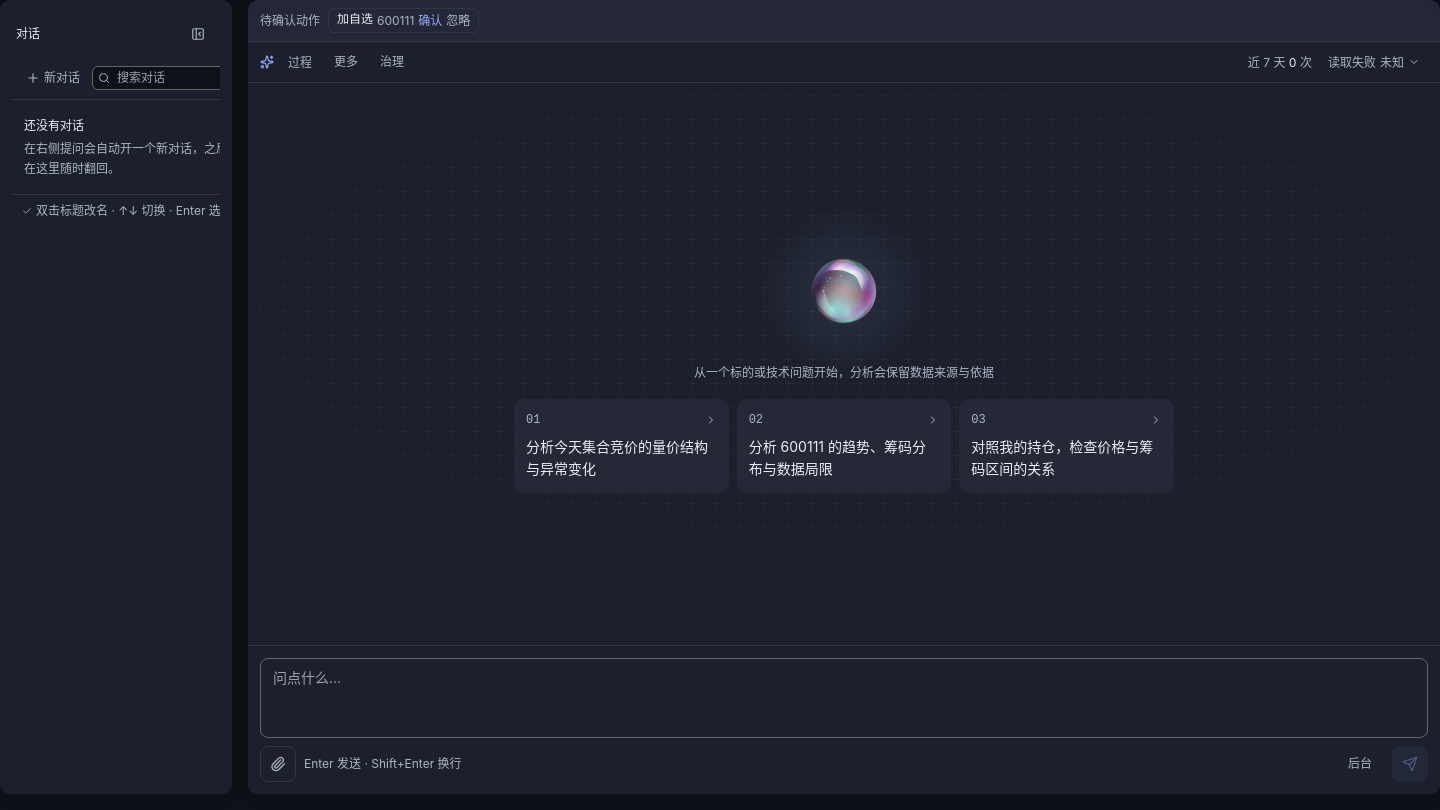
Scenario: 待确认动作 · 提交中禁重 + 失败就地提示 › 确认失败：就地可见报错、不产生 unhandled rejection、待确认行原样保留且可重试
Expected: the element with test id "copilot-pending-actions" is shown, [248,0,1439,42]
Click the button "确认" at (430, 21), box [418,11,442,30]
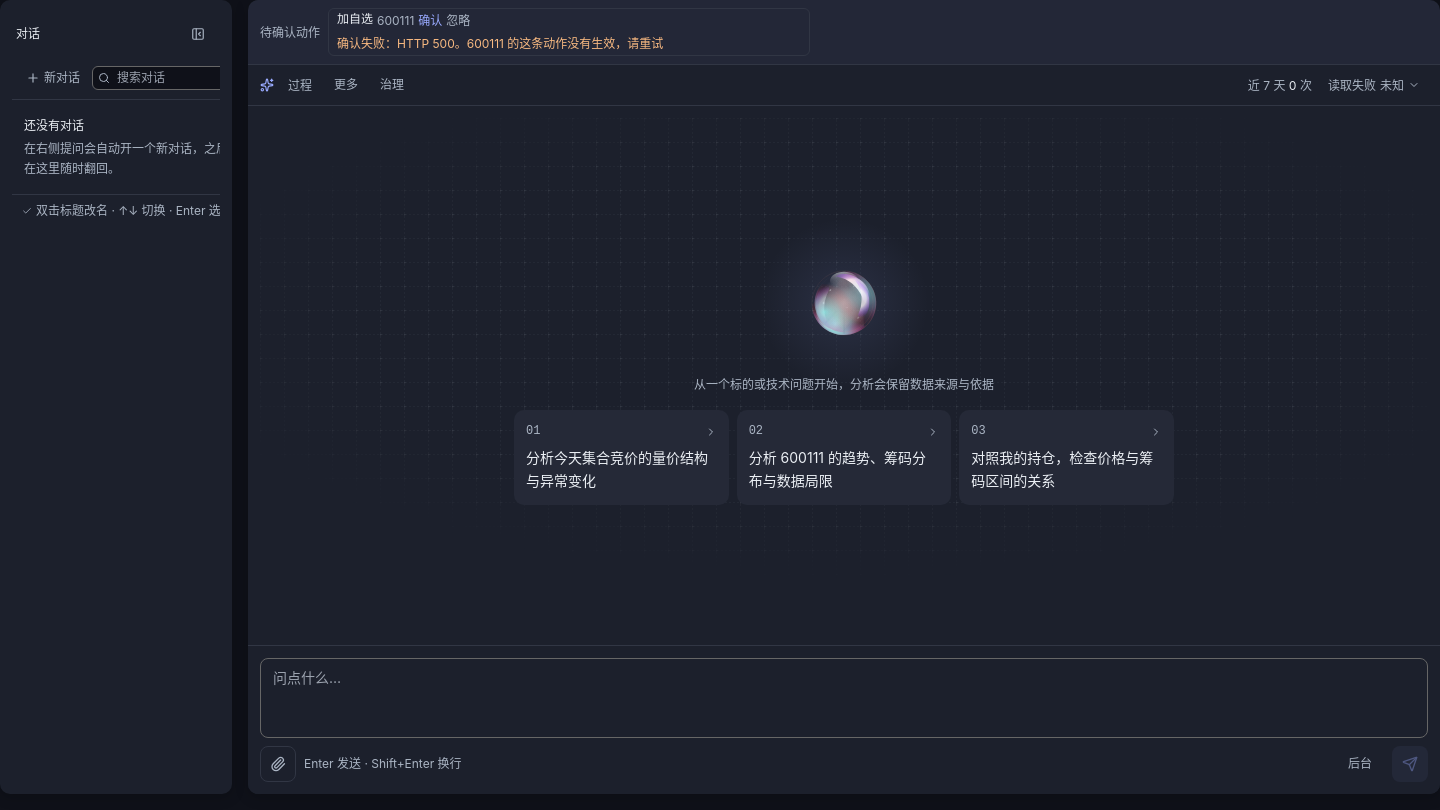
Expected: the element with test id "copilot-pending-actions" is shown, [248,0,1439,65]
Expected: the message with test id "copilot-pending-error" shows "失败", [337,36,663,51]
Expected: the message with test id "copilot-pending-error" shows "600111", [337,36,663,51]
